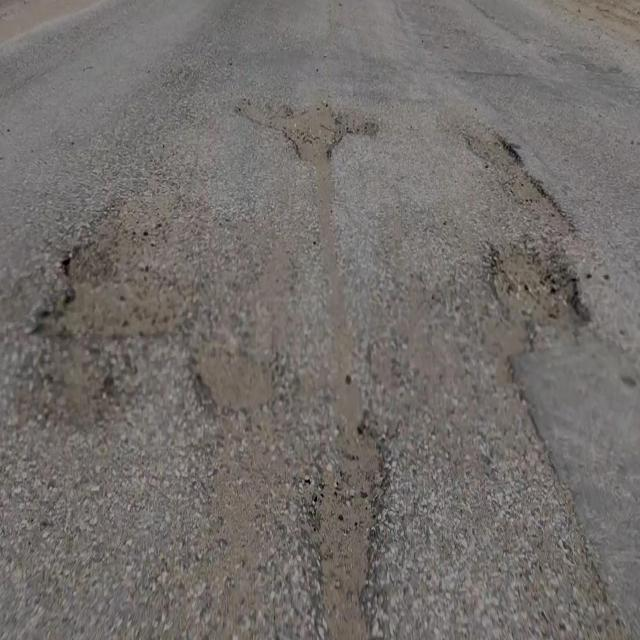Potholes: (31, 236, 193, 354), (305, 410, 386, 640), (489, 244, 593, 328), (237, 91, 347, 164), (191, 341, 286, 416), (507, 177, 576, 239), (464, 133, 530, 174)
